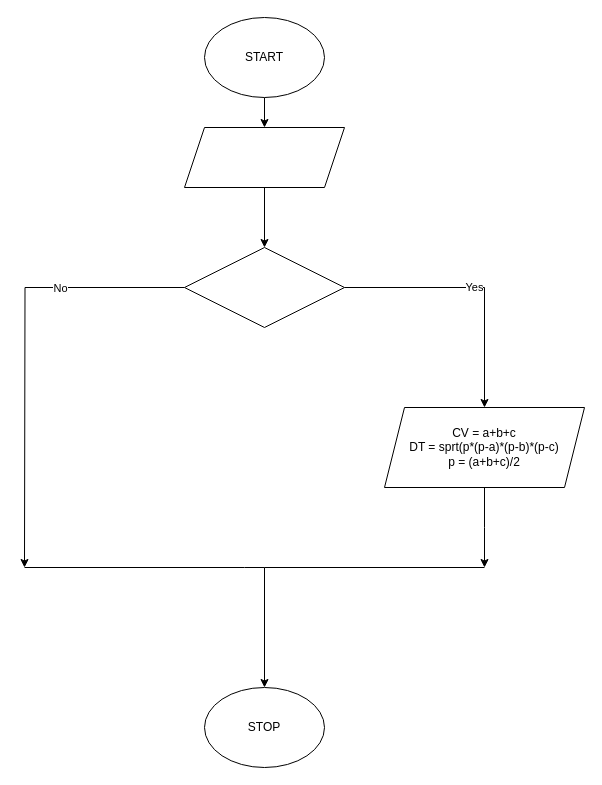
Some shapes in this 602 by 785 pixel diagram are drawn without their labels. Each missing label, with the centre of its shape:
a+b>c a+c>b c+b>a: point 264,287
INPUT a,b,c: point 264,157
